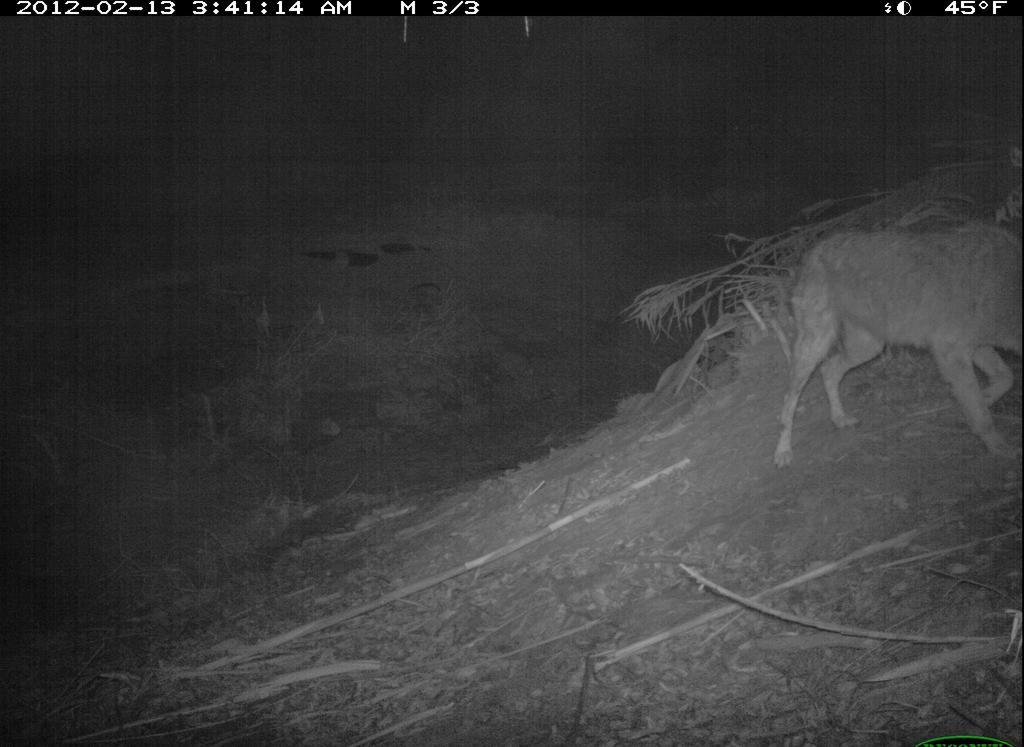coyote: (776, 227, 1019, 464)
